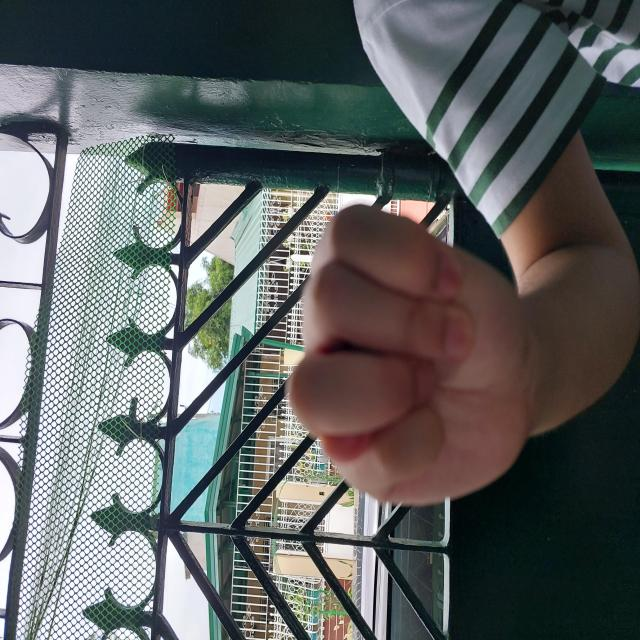M: (225, 158, 551, 562)
